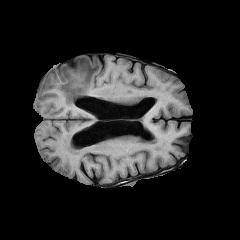glioma: (57, 58, 99, 106)
